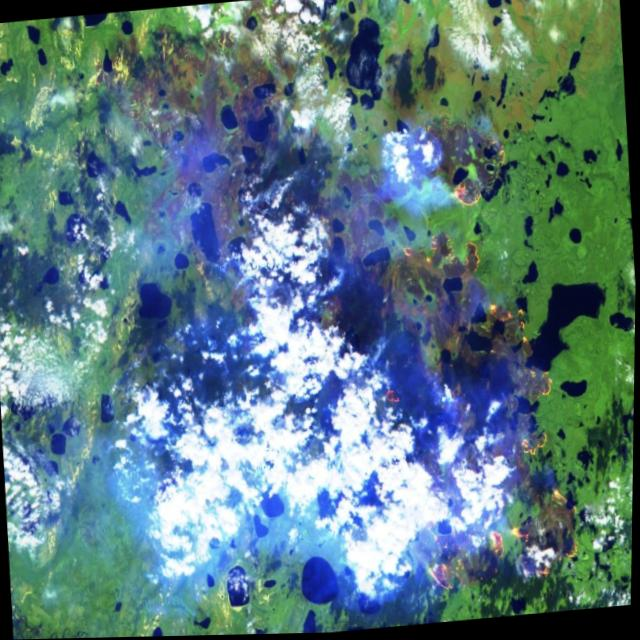fire: (219, 108, 600, 636)
